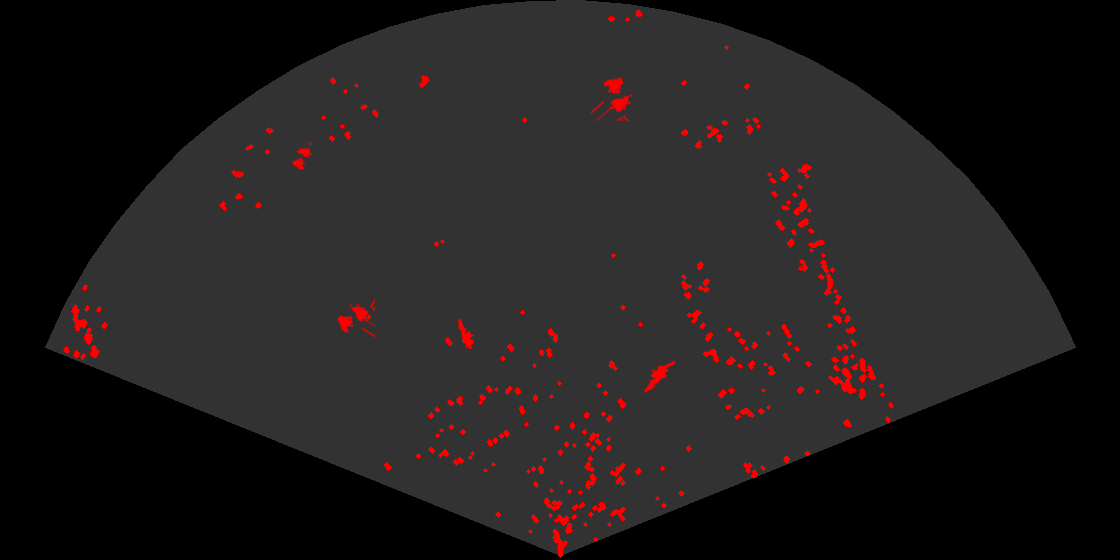cage: (591, 76, 634, 121), (335, 298, 375, 339), (291, 142, 312, 172)
frogman: (638, 359, 675, 395), (456, 318, 476, 349)
